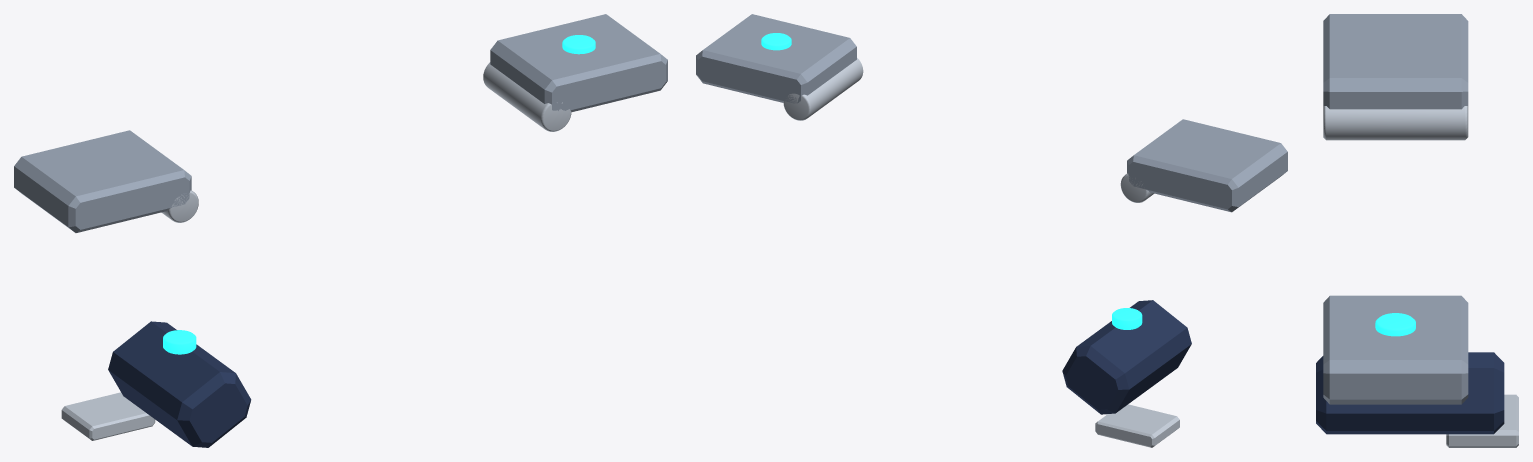
Rendered from tower_skywatch_rate_s3.glb.
3 renders of one model, left to right at view 1: azimuth 30°, elevation 25°; view 2: azimuth 150°, elevation 25°; view 3: azimuth 270°, elevation 25°, orthographic. The views are drawn at different scales.
Parts seen in each view (by area): view 1: skywatch_belt_guide_r, skywatch_belt_guide_l, skywatch_eject_chute, skywatch_eject_lip, skywatch_belt_guide_roller_l, skywatch_up_rate_l3_stud, skywatch_belt_guide_roller_r; view 2: skywatch_belt_guide_r, skywatch_belt_guide_l, skywatch_eject_chute, skywatch_eject_lip, skywatch_belt_guide_roller_l, skywatch_up_rate_l3_stud; view 3: skywatch_belt_guide_l, skywatch_belt_guide_r, skywatch_eject_chute, skywatch_belt_guide_roller_r, skywatch_eject_lip, skywatch_up_rate_l2_stud.
Part boxes in pixels (box(x1,y1,x2,y2)): skywatch_belt_guide_r: box(14, 130, 191, 232); skywatch_belt_guide_l: box(490, 14, 667, 112); skywatch_eject_chute: box(108, 321, 251, 447); skywatch_eject_lip: box(61, 392, 155, 440); skywatch_belt_guide_roller_l: box(483, 62, 571, 131); skywatch_up_rate_l3_stud: box(163, 330, 196, 354); skywatch_belt_guide_roller_r: box(161, 190, 198, 222); skywatch_belt_guide_r: box(1127, 119, 1287, 212); skywatch_belt_guide_l: box(696, 14, 856, 103); skywatch_eject_chute: box(1062, 300, 1191, 414); skywatch_eject_lip: box(1095, 404, 1179, 447); skywatch_belt_guide_roller_l: box(783, 58, 863, 120); skywatch_up_rate_l3_stud: box(1112, 308, 1142, 329); skywatch_belt_guide_l: box(1323, 295, 1468, 404); skywatch_belt_guide_r: box(1323, 14, 1468, 109); skywatch_eject_chute: box(1316, 352, 1504, 434); skywatch_belt_guide_roller_r: box(1323, 106, 1468, 140); skywatch_eject_lip: box(1446, 394, 1518, 447); skywatch_up_rate_l2_stud: box(1375, 313, 1415, 336).
Bounding box in the file's own units: 1.16 × 0.5586 × 0.28.
